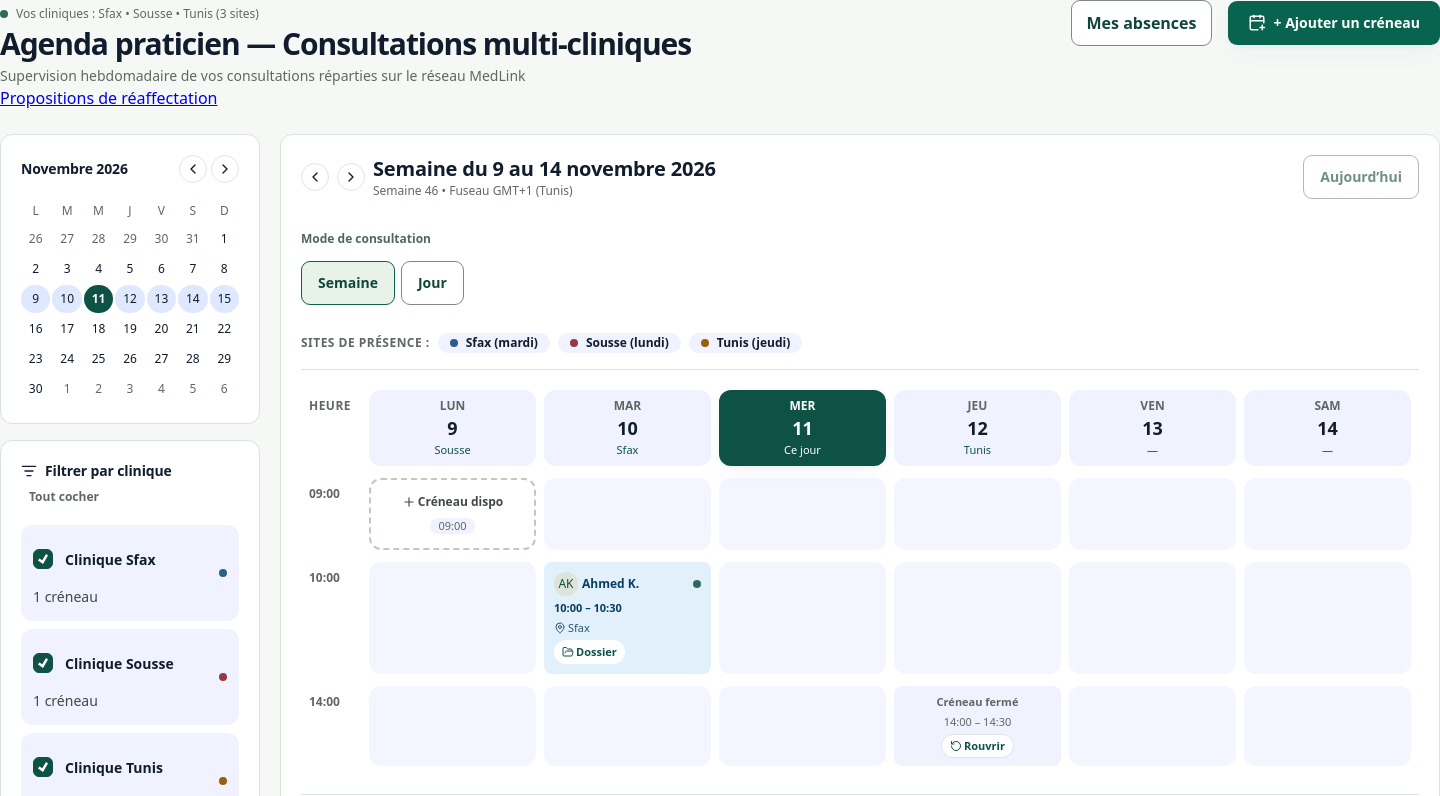
Scenario: the month calendar opens the week of the day clicked, and moves by month
Check: the heading "Semaine du 9 au 14 novembre 2026" is shown, box [373,155,716,183]
Click the button named "mercredi 18 novembre" at (98, 329), box [84,315,113,343]
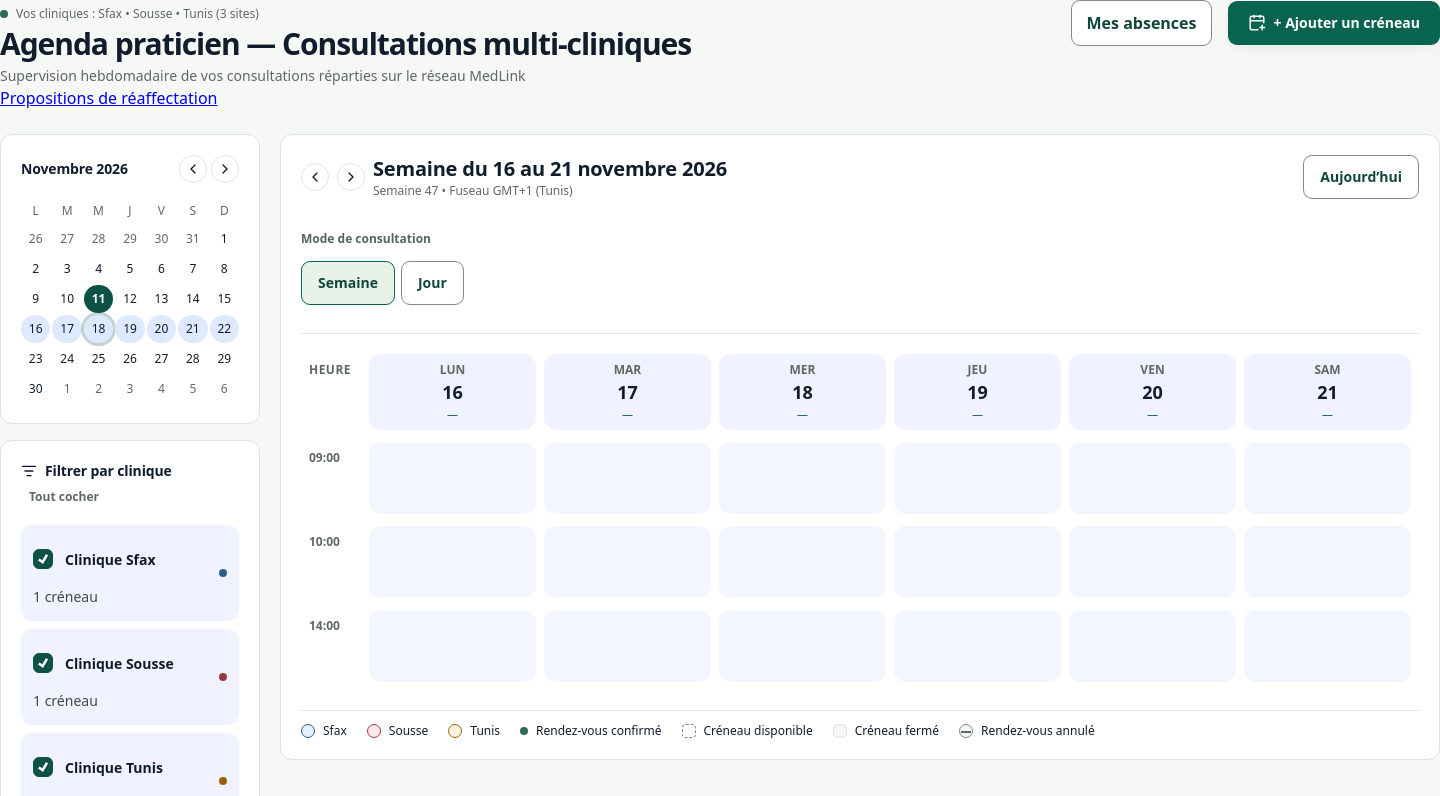
Check: the heading "Semaine du 16 au 21 novembre 2026" is shown, box [373,155,727,183]
Click the button named "Mois suivant" at (225, 169), box [211,155,239,183]
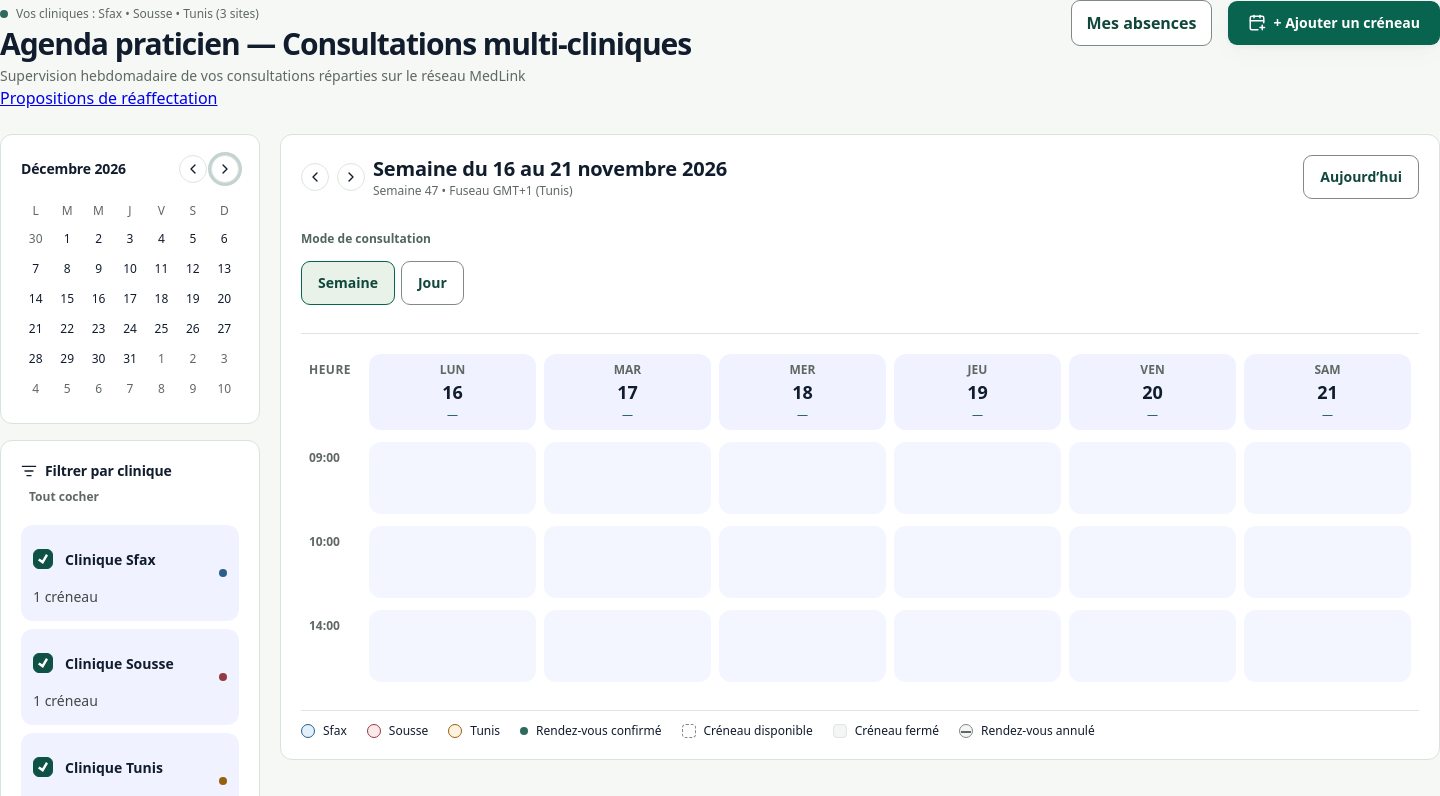
Check: the element "Décembre 2026" is shown, box [0,134,260,424]
